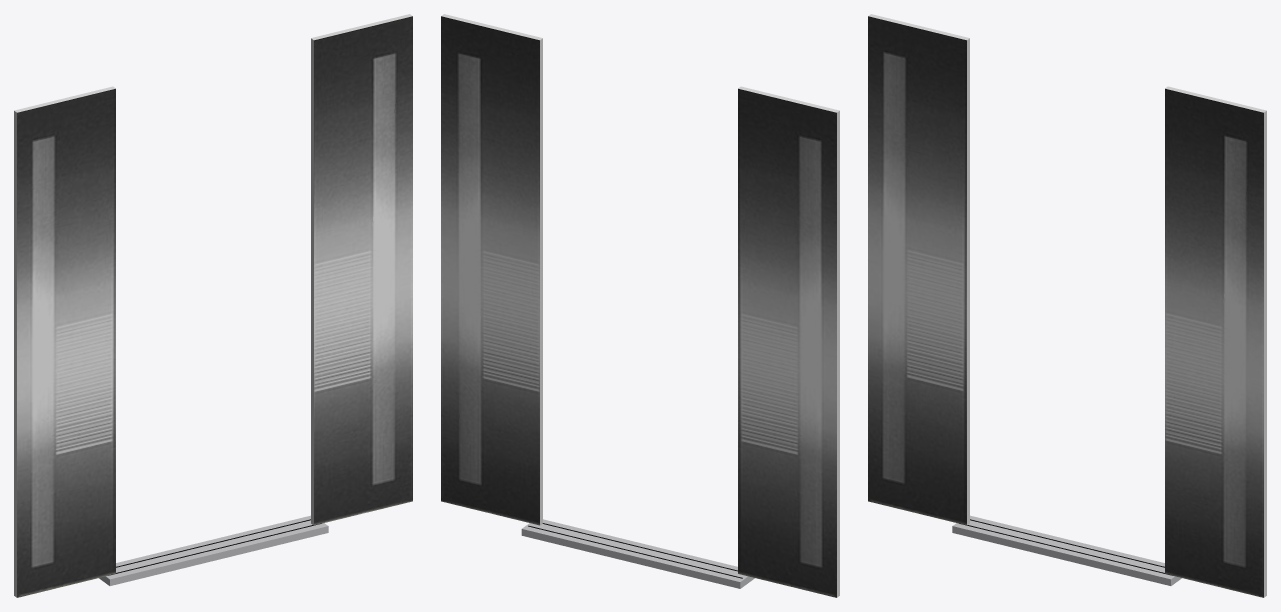
The model's file is cabin_door_TM004.glb.
3 views of the same model, side by side, from view 1: azimuth 30°, elevation 25°; view 2: azimuth 150°, elevation 25°; view 3: azimuth 330°, elevation 25° (orthographic).
Parts seen in each view (by area): view 1: Car_Door_L, Car_Door_R, Door_Sill; view 2: Car_Door_L, Car_Door_R, Door_Sill; view 3: Car_Door_R, Car_Door_L, Door_Sill.
Boxes of the visible parts, x1,y1,x2,y2 form: Car_Door_L: (14,86,115,597); Car_Door_R: (311,14,412,525); Door_Sill: (99,515,328,585); Car_Door_L: (738,86,839,597); Car_Door_R: (441,14,542,525); Door_Sill: (521,519,754,588); Car_Door_R: (1165,86,1266,597); Car_Door_L: (868,14,969,525); Door_Sill: (952,515,1181,585).
Bounding box in the file's own units: 1.81 × 2.15 × 0.12.
3 materials, 1 textured.
